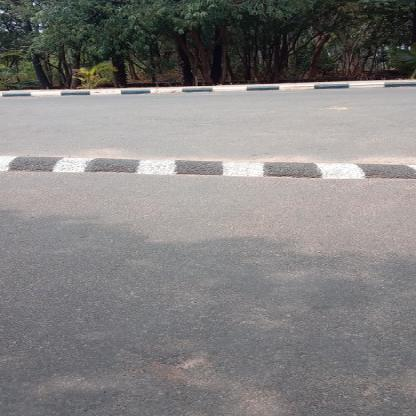speed-bumps: (1, 150, 415, 190)
